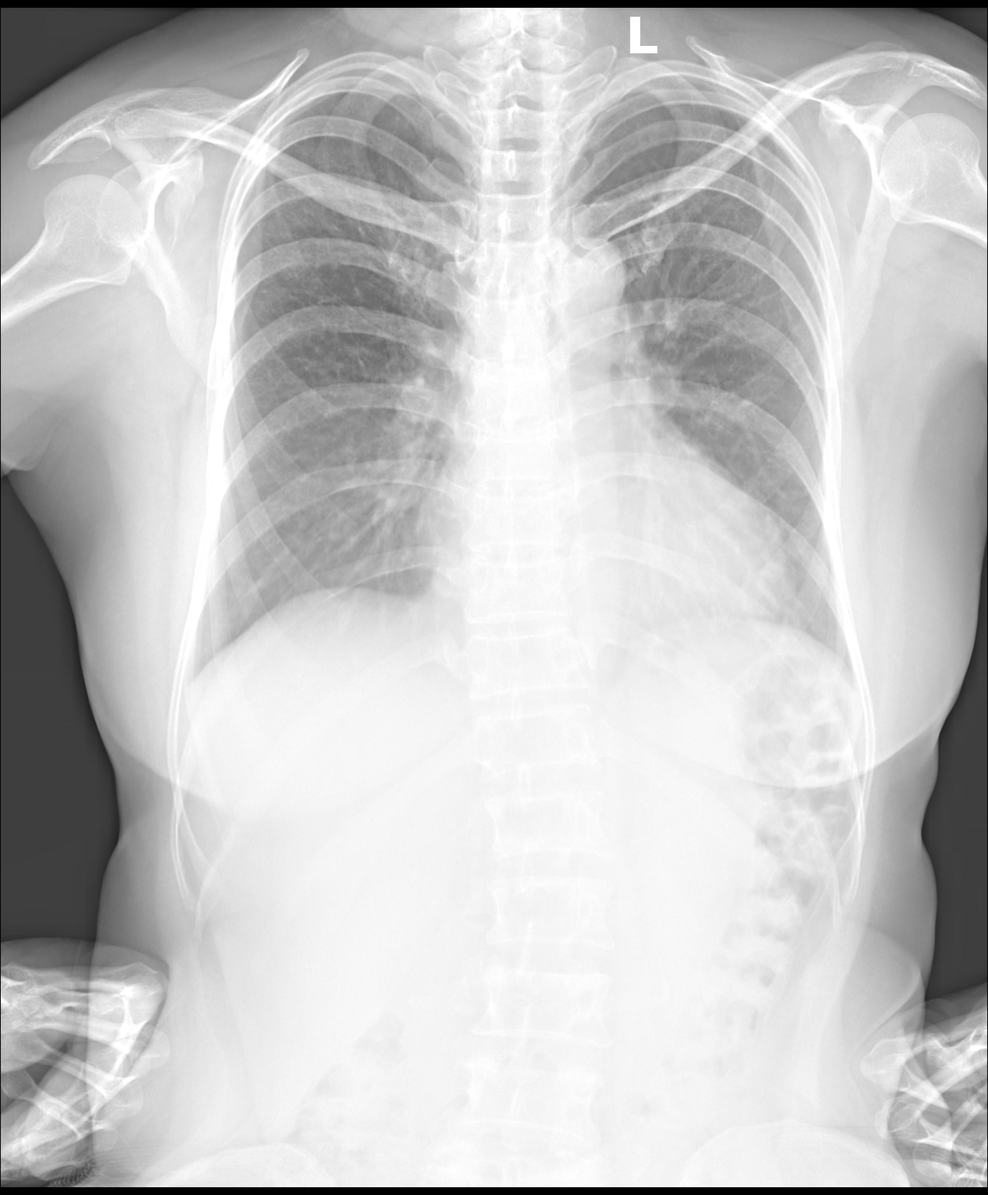Cardiomegaly: (419, 490, 794, 630)
Pleural thickening: (279, 67, 429, 97)
